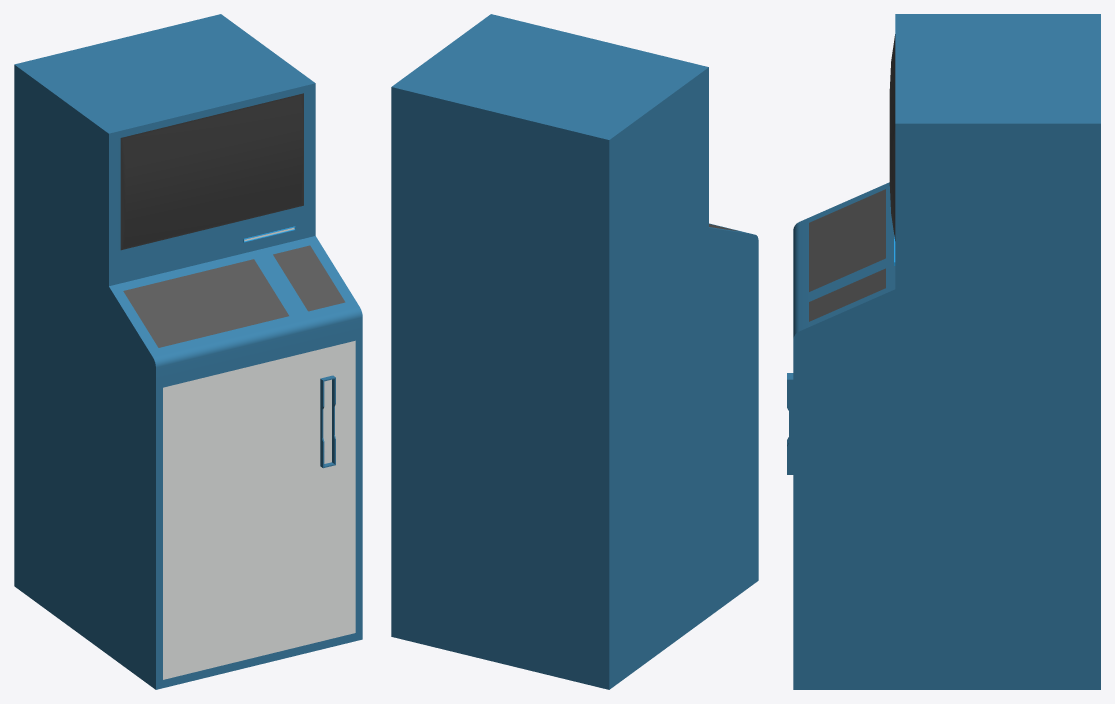
Rendered from Terminal.fbx.
3 renders of one model, left to right at view 1: azimuth 30°, elevation 25°; view 2: azimuth 150°, elevation 25°; view 3: azimuth 270°, elevation 25°, orthographic. The views are drawn at different scales.
Parts seen in each view (by area): view 1: Terminal; view 2: Terminal; view 3: Terminal.
Part boxes in pixels (x1,y1,x2,y2): Terminal: (14, 14, 362, 689); Terminal: (391, 14, 758, 689); Terminal: (787, 14, 1100, 689).
Bounding box in the file's own units: 2.4 × 5.79 × 2.9.
3 materials, 3 textured.
